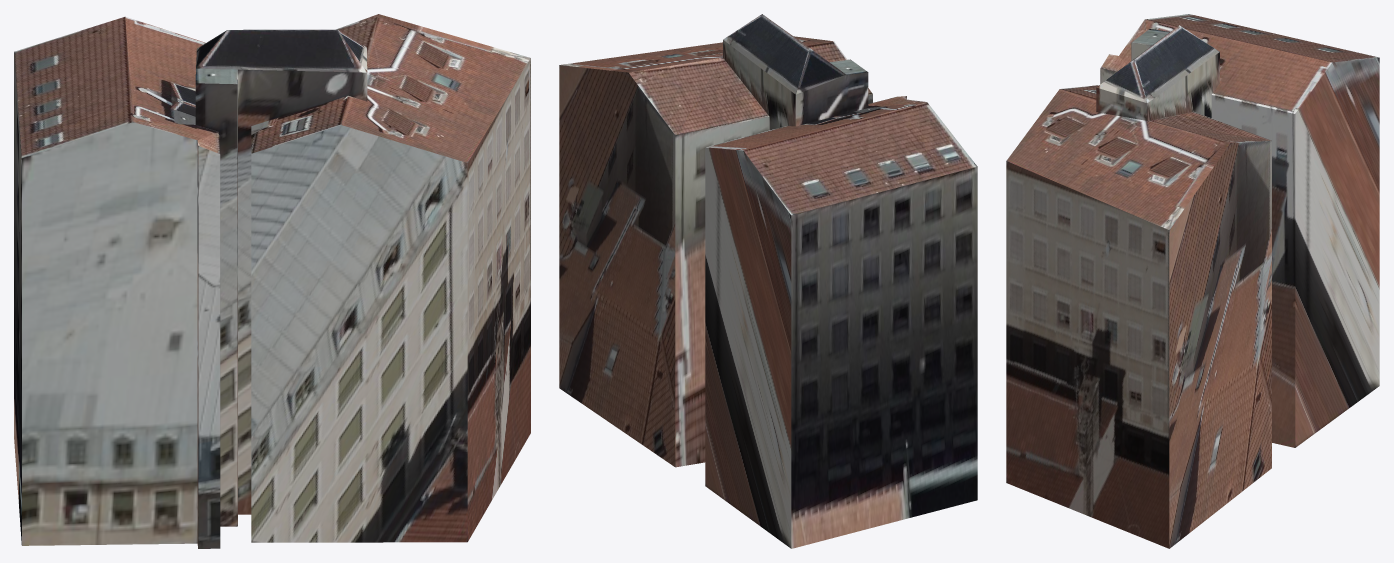
3 renders of one model, left to right at view 1: azimuth 30°, elevation 25°; view 2: azimuth 150°, elevation 25°; view 3: azimuth 270°, elevation 25°, orthographic. The views are drawn at different scales.
Visible parts, largest first — view 1: Z_UP; view 2: Z_UP; view 3: Z_UP.
Boxes of the visible parts, <box> form: Z_UP: <box>14,14,530,548</box>; Z_UP: <box>559,14,977,548</box>; Z_UP: <box>1006,14,1379,548</box>.
Size of the model in its own units: 32.61 by 29.55 by 24.96.
2 materials, 1 textured.
